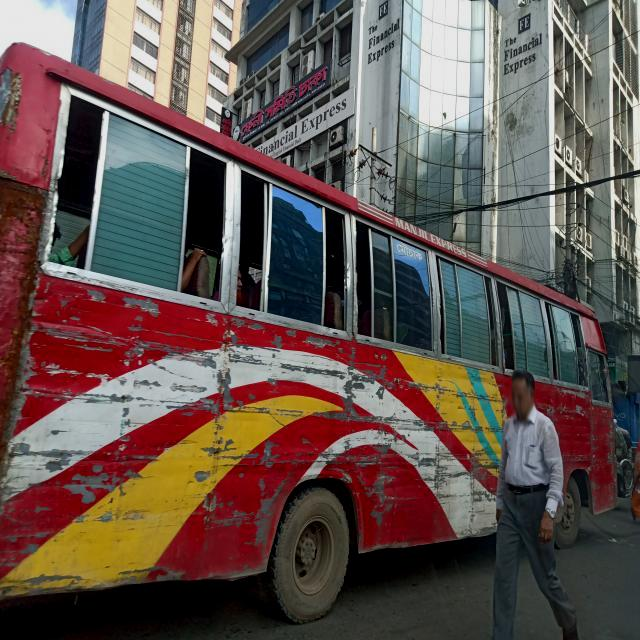bus: (1, 41, 619, 623)
